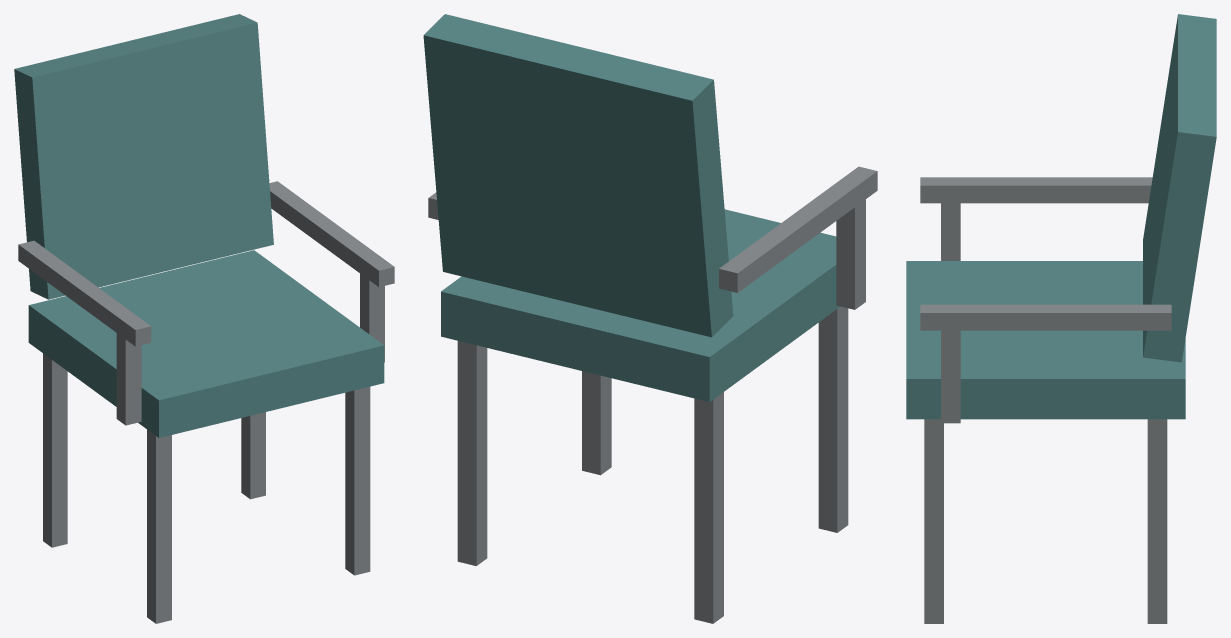
File: Waiting_chair.obj
3 renders of one model, left to right at view 1: azimuth 30°, elevation 25°; view 2: azimuth 150°, elevation 25°; view 3: azimuth 270°, elevation 25°, orthographic. The views are drawn at different scales.
Visible parts, largest first — view 1: Waiting_chair; view 2: Waiting_chair; view 3: Waiting_chair.
Boxes of the visible parts, x1,y1,x2,y2 form: Waiting_chair: (14, 14, 394, 623); Waiting_chair: (423, 14, 877, 623); Waiting_chair: (906, 14, 1216, 623).
Bounding box in the file's own units: 0.575 × 0.9777 × 0.556.
